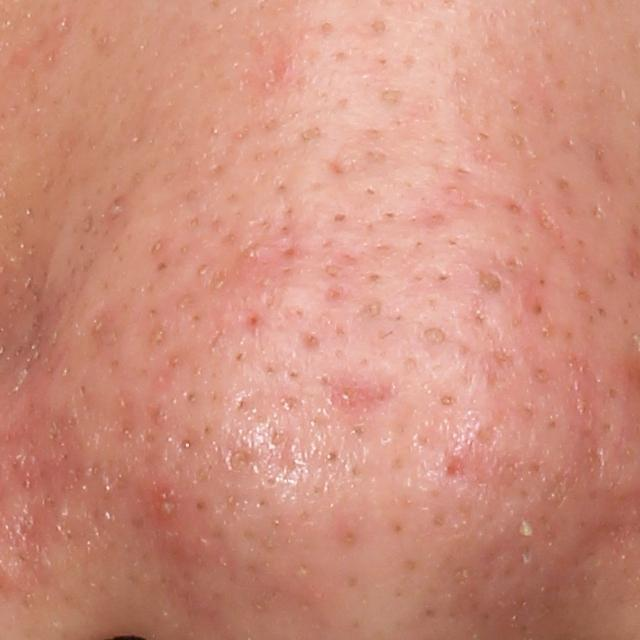comedo: (473, 268, 508, 297), (420, 321, 448, 349), (437, 388, 456, 408)
